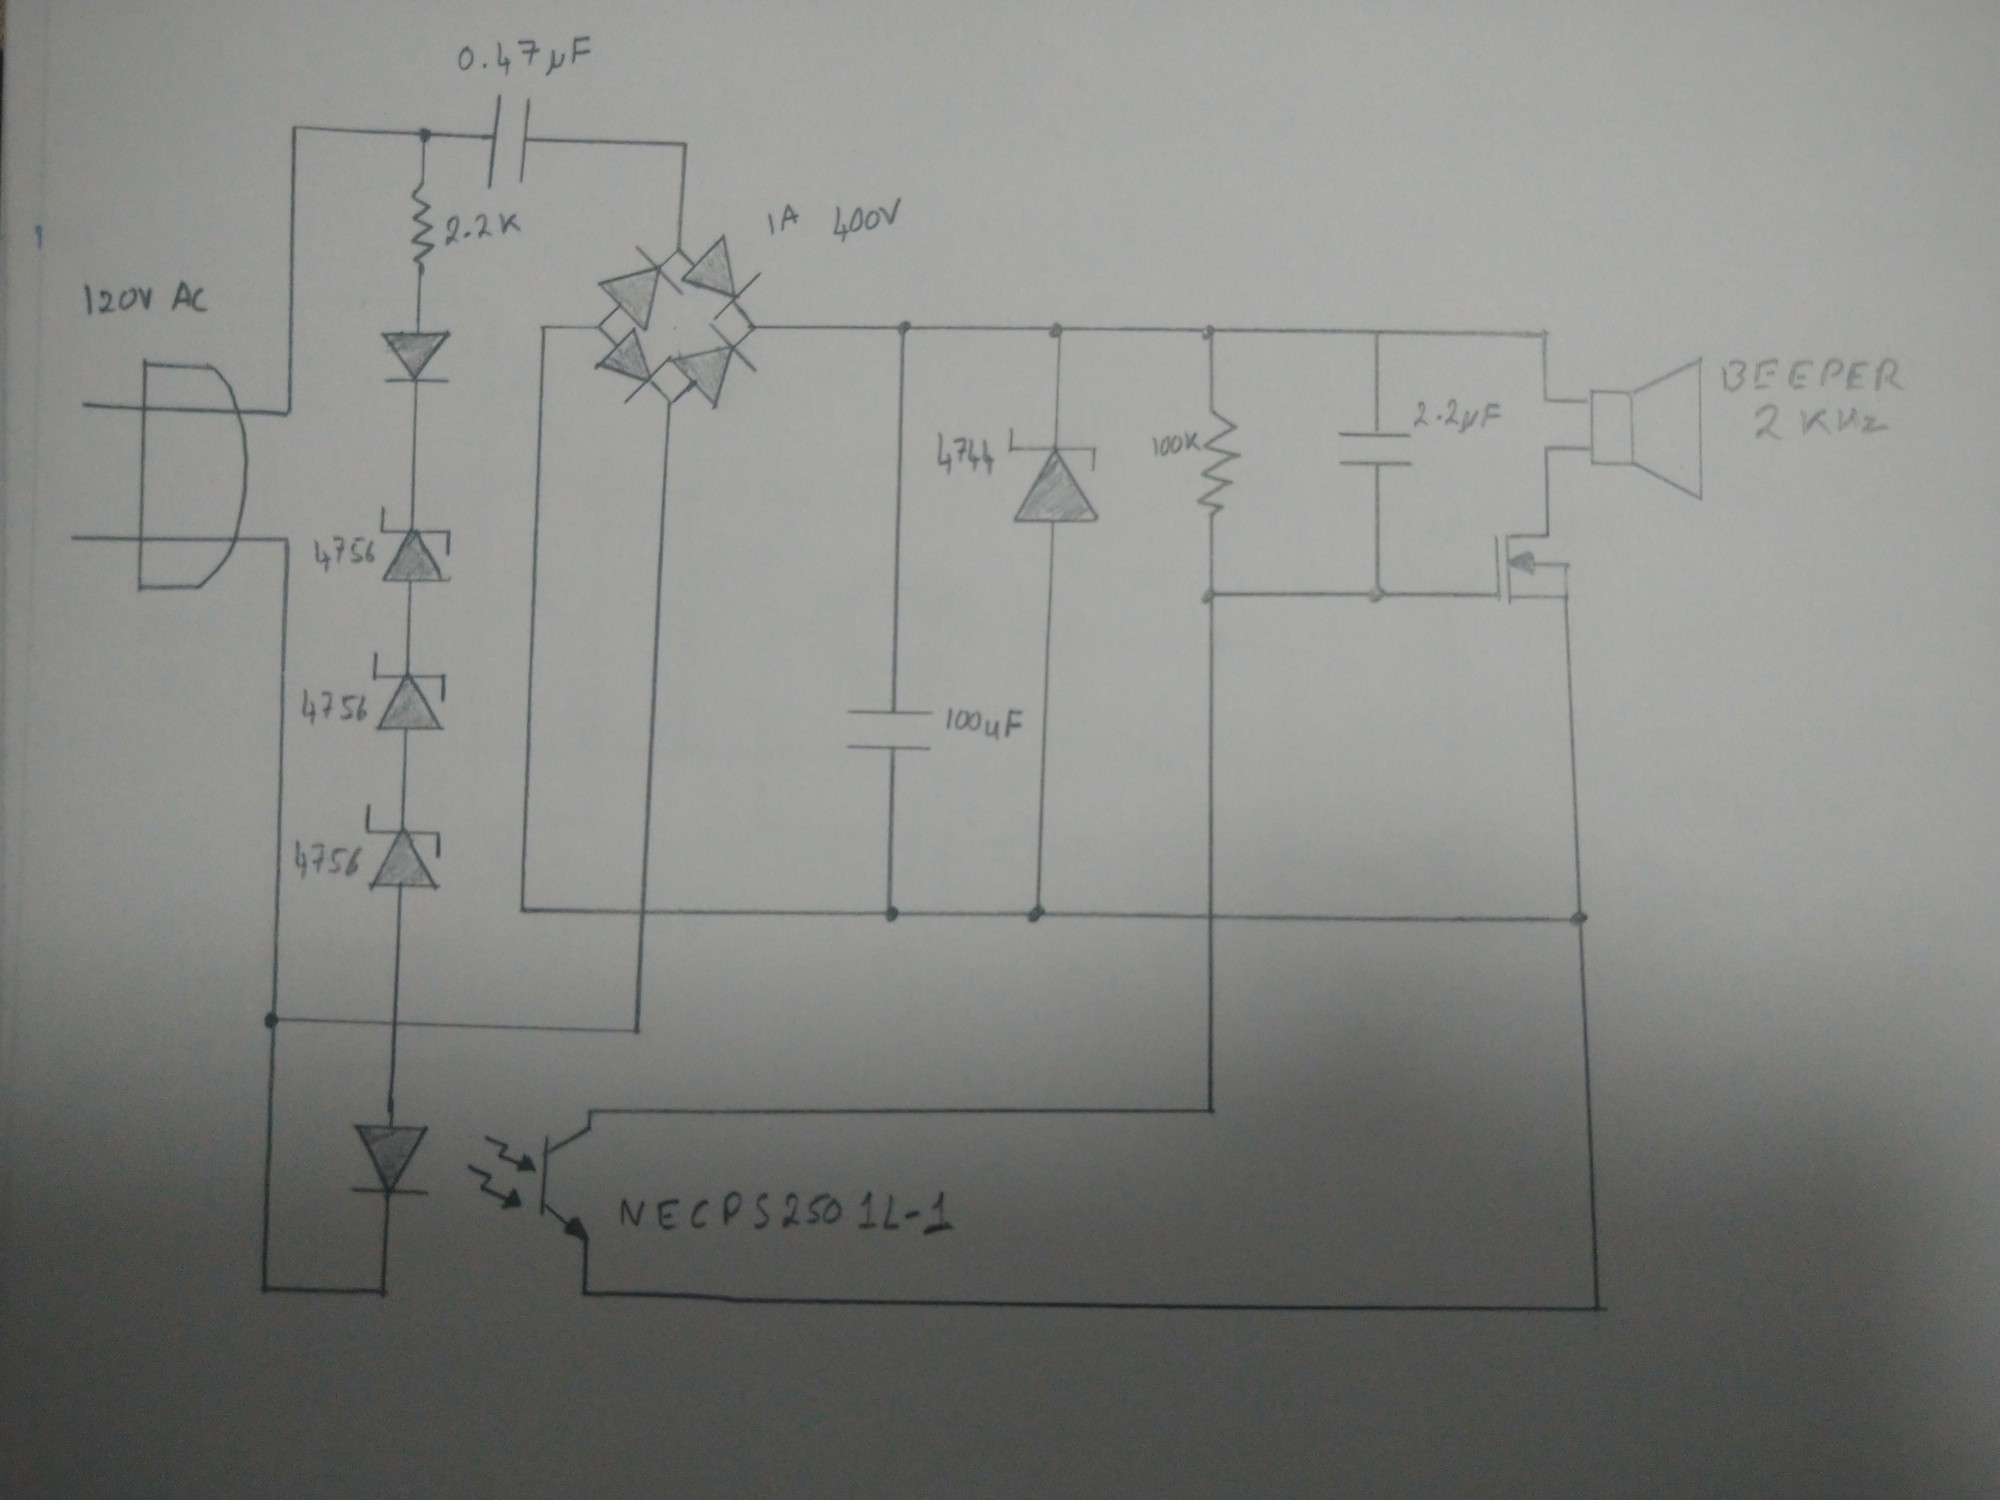capacitor.unpolarized: (841, 698, 939, 770), (482, 88, 542, 192), (1332, 418, 1416, 487)
crossover: (628, 898, 657, 926), (1195, 904, 1225, 931), (384, 1012, 413, 1037)
diode: (1005, 425, 1104, 529), (361, 800, 446, 893), (597, 244, 682, 332), (672, 325, 757, 408), (370, 651, 450, 737), (376, 504, 455, 588), (682, 235, 757, 318), (595, 329, 669, 402), (380, 326, 454, 392)
junction: (1019, 893, 1057, 928), (1361, 577, 1398, 610), (1195, 578, 1228, 608), (1041, 317, 1071, 347), (1565, 903, 1595, 933), (888, 315, 920, 343), (250, 1276, 285, 1301), (1195, 318, 1224, 348), (413, 120, 438, 150), (876, 901, 904, 926), (260, 1005, 283, 1034), (1195, 1098, 1224, 1122), (1584, 1297, 1613, 1320), (372, 1279, 395, 1303), (515, 897, 535, 923), (1532, 321, 1554, 345), (276, 529, 299, 551), (1367, 321, 1389, 343), (573, 1283, 595, 1305), (276, 402, 296, 425), (676, 134, 696, 158), (1535, 388, 1557, 408), (627, 1019, 649, 1040), (591, 318, 611, 337), (287, 120, 306, 139), (1540, 440, 1561, 457), (535, 320, 553, 337), (660, 392, 677, 410), (669, 243, 687, 258), (743, 320, 761, 336), (583, 1105, 598, 1120)
optocoupler: (350, 1120, 600, 1245)
resistor: (1194, 403, 1239, 523), (408, 183, 435, 269)
socket: (132, 355, 254, 600)
speaker: (1584, 355, 1712, 509)
terminal: (72, 395, 96, 414), (61, 531, 85, 547)
text: (614, 1186, 954, 1235), (1717, 355, 1907, 399), (449, 33, 600, 80), (79, 276, 216, 323), (1751, 402, 1891, 443), (1409, 394, 1515, 436), (828, 192, 909, 244), (942, 703, 1031, 745), (439, 206, 526, 249), (931, 429, 998, 477), (290, 838, 364, 881), (298, 685, 370, 728), (307, 534, 378, 574), (762, 199, 805, 243), (1150, 427, 1202, 459)
transistor: (1490, 526, 1580, 610)
